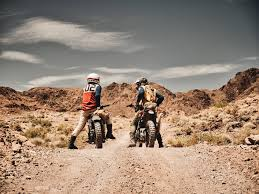motorcycle: (126, 102, 167, 148), (81, 103, 117, 148)
